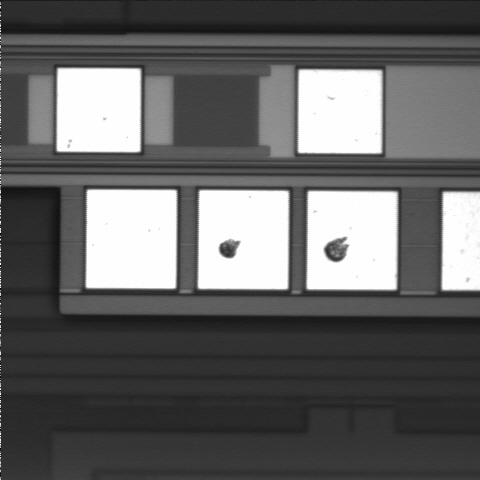pad: (86, 190, 176, 289), (198, 190, 288, 289), (307, 191, 397, 290), (57, 68, 141, 152), (298, 70, 382, 153)
